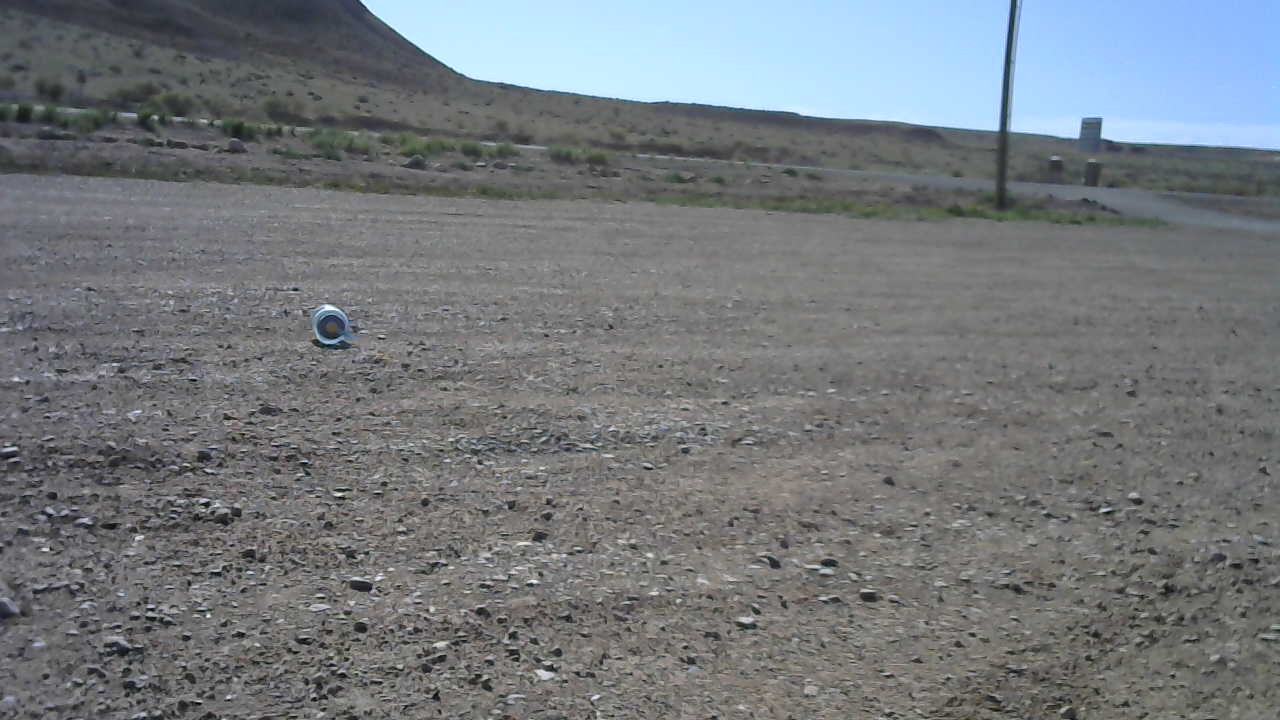bottle: (305, 298, 360, 350)
